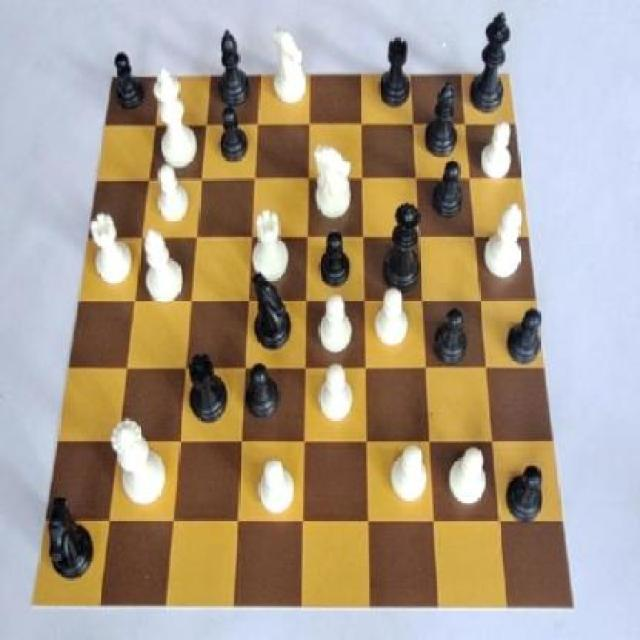bishop: (421, 68, 464, 162), (215, 26, 257, 107)
black-bishop: (463, 6, 514, 122)
black-king: (37, 496, 101, 592), (250, 263, 298, 366)
black-knight: (504, 303, 556, 369), (502, 457, 552, 525), (108, 48, 154, 119), (240, 360, 288, 426), (212, 98, 256, 168), (431, 300, 473, 370), (314, 231, 361, 288), (428, 158, 469, 220)
black-pawn: (375, 197, 427, 295)
black-queen: (181, 348, 234, 430), (372, 30, 421, 114)
black-rook: (477, 195, 533, 288), (137, 226, 188, 309)
white-bishop: (149, 56, 201, 174)
white-king: (306, 137, 357, 228), (266, 23, 311, 111)
white-knight: (246, 445, 301, 527), (369, 277, 421, 363), (443, 438, 489, 516), (307, 360, 358, 427), (386, 434, 429, 508), (474, 116, 520, 184), (308, 286, 354, 354), (152, 158, 197, 227)
white-pawn: (106, 414, 171, 508)
white-queen: (85, 211, 139, 290), (248, 200, 292, 289)
